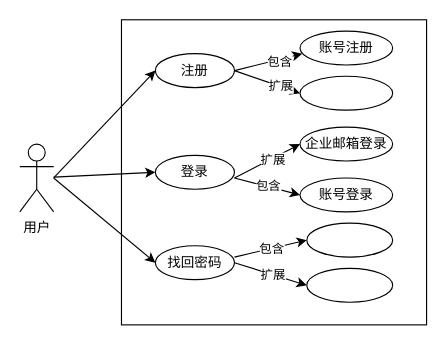
Image size: 446x345. Some labels were removed from this diagram. Here are the shapes that lost their labels. From the top down, the centre of each, then its label:
the point at 346,92: 邮箱绑定
the point at 349,239: 登录密码修改
the point at 349,284: 绑定邮箱修改
